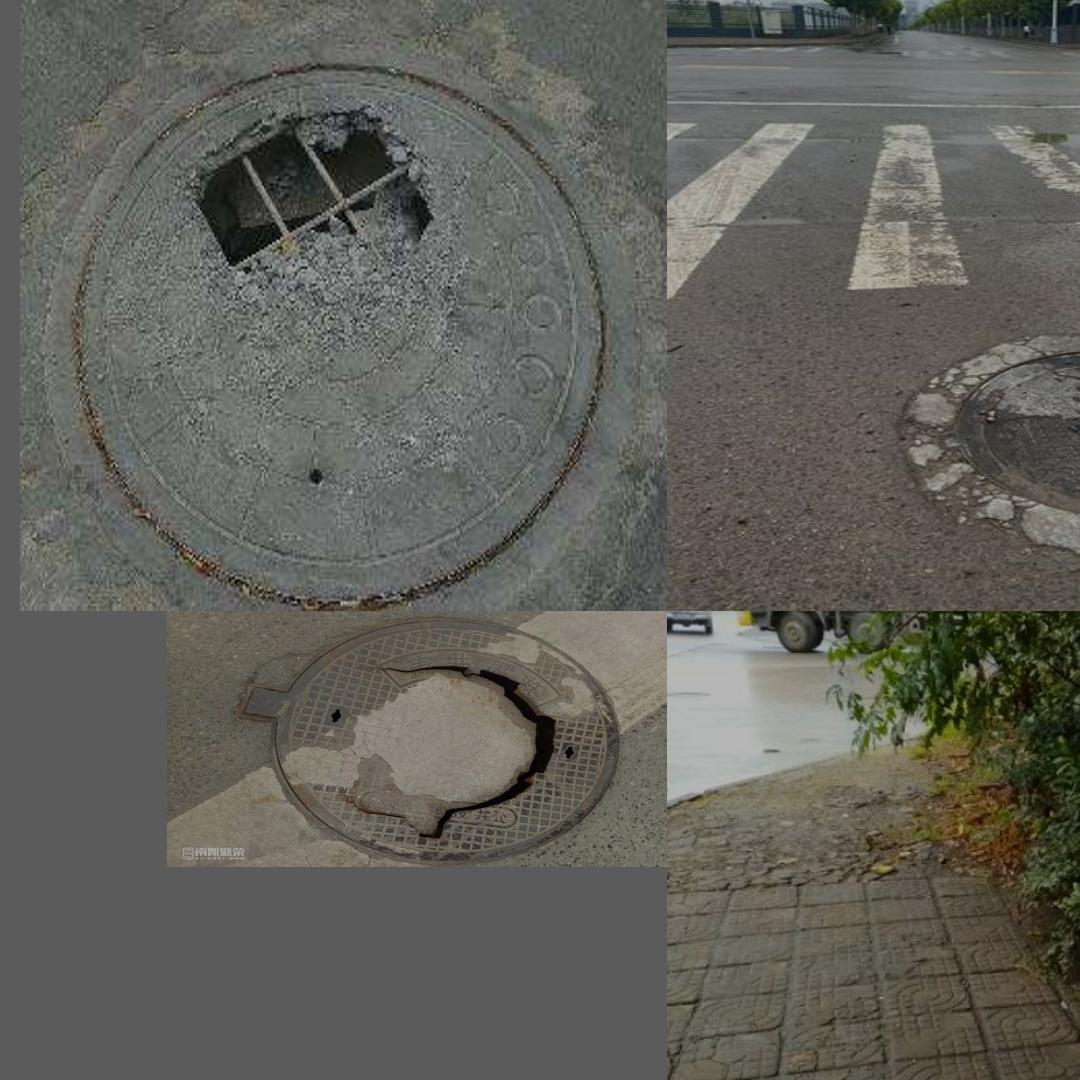broke: (53, 63, 604, 606), (265, 615, 628, 864), (890, 318, 1080, 569)
